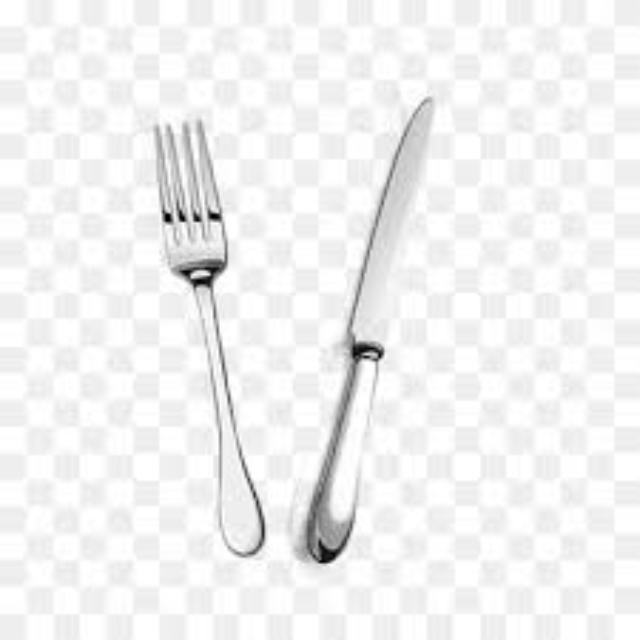Knife: (304, 94, 432, 564)
